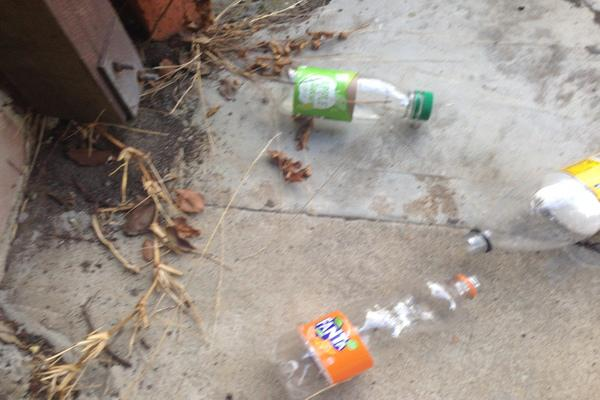Plastic Bottle: (269, 272, 481, 396), (462, 151, 599, 264), (274, 65, 435, 127)
